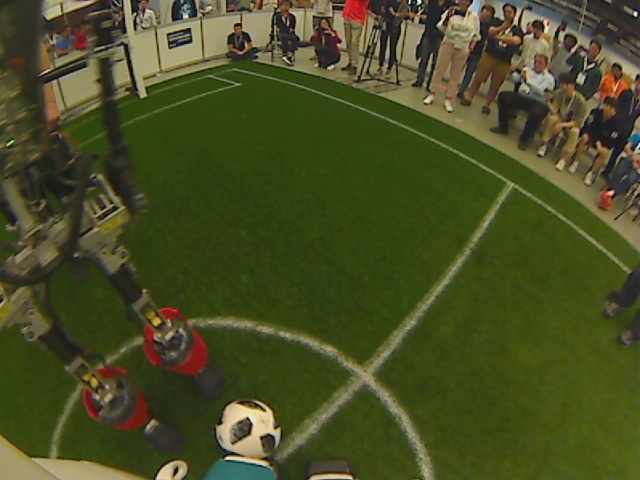ball: (212, 394, 285, 463)
